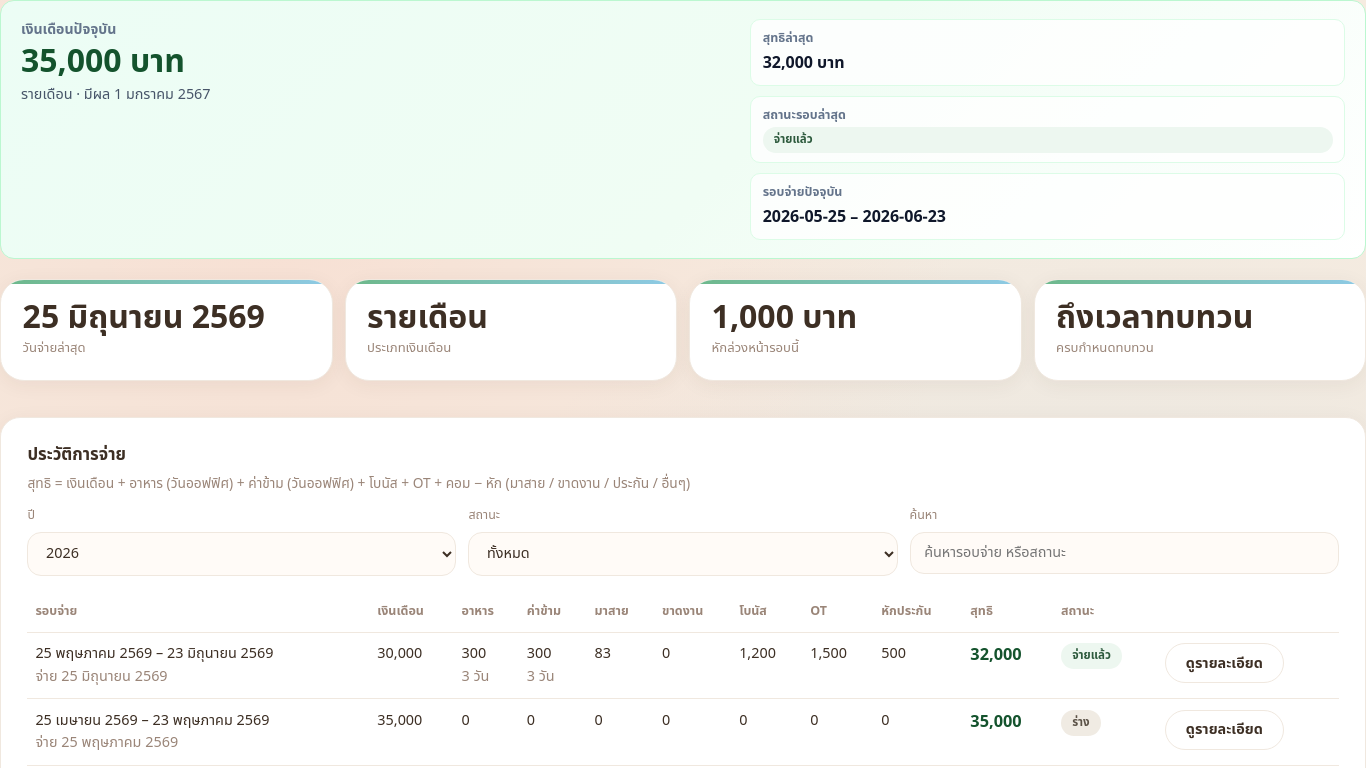
EmployeePayrollTab › searches history rows
This screenshot has width=1366, height=768.
Expected: the row with test id "payroll-row-cycle-1" is shown, x1=27 y1=632 x2=1339 y2=699
Type "2026-04-25" into the search field with test id "payroll-search" at (1124, 553), box x1=910 y1=532 x2=1339 y2=574
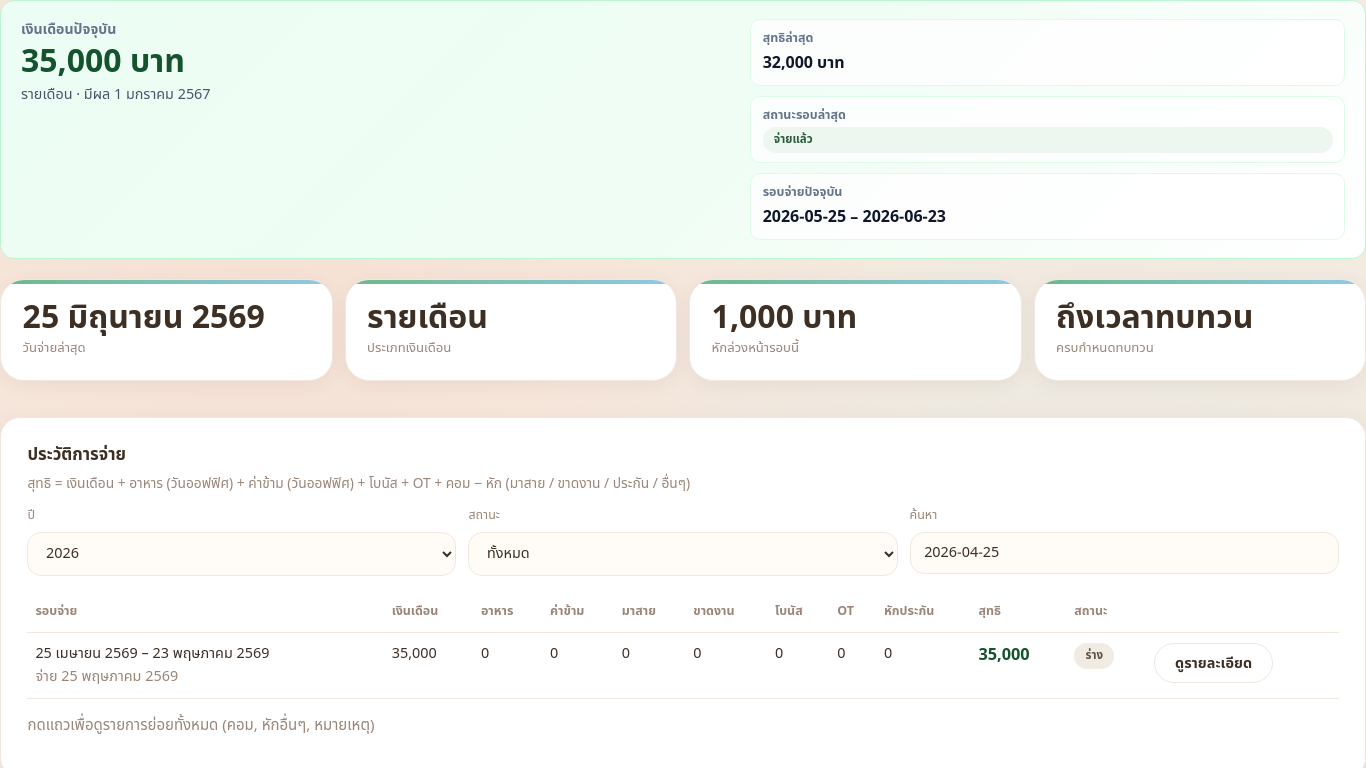
Expected: the row with test id "payroll-row-cycle-2" is shown, x1=27 y1=632 x2=1339 y2=699
Expected: the row with test id "payroll-row-cycle-1" is gone
